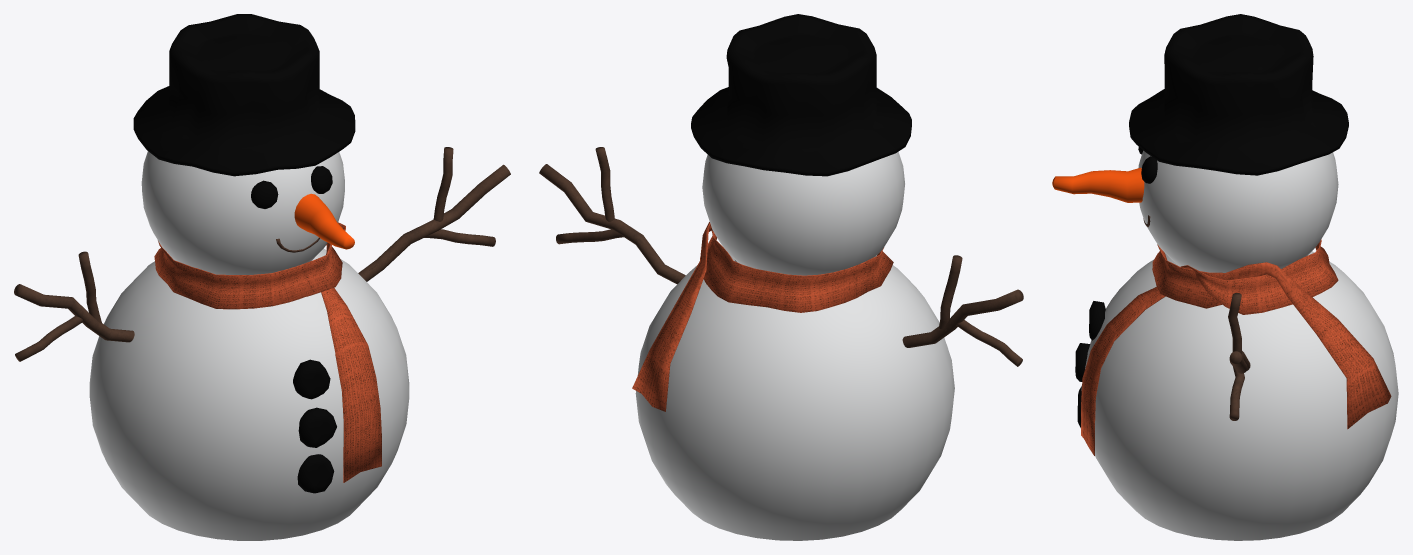
Rendered from snowman1.fbx.
3 renders of one model, left to right at view 1: azimuth 30°, elevation 25°; view 2: azimuth 150°, elevation 25°; view 3: azimuth 270°, elevation 25°, orthographic.
Visible parts, largest first — view 1: snowman1; view 2: snowman1; view 3: snowman1.
Part boxes in pixels (x1,y1,x2,y2): snowman1: [14, 14, 510, 540]; snowman1: [539, 14, 1023, 540]; snowman1: [1052, 14, 1398, 540].
Size of the model in its own units: 144 by 128 by 89.66.
Materials: 1 (1 with a texture image).
